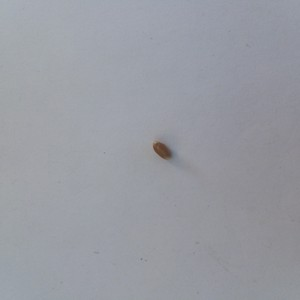trigo: (150, 137, 175, 165)
